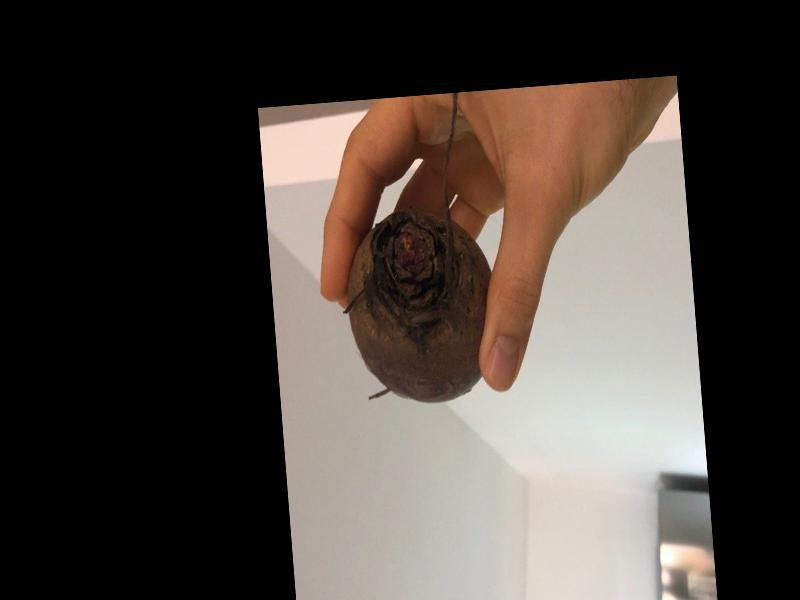Beet: (326, 92, 503, 411)
